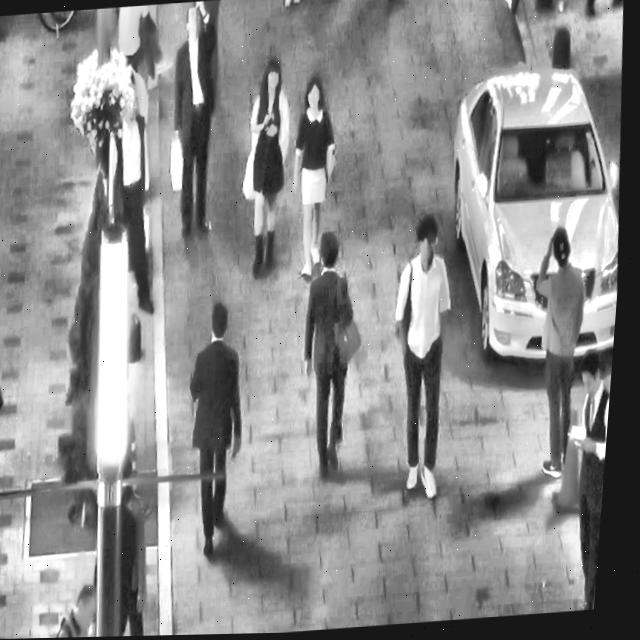light_vehicle: (432, 46, 637, 381)
